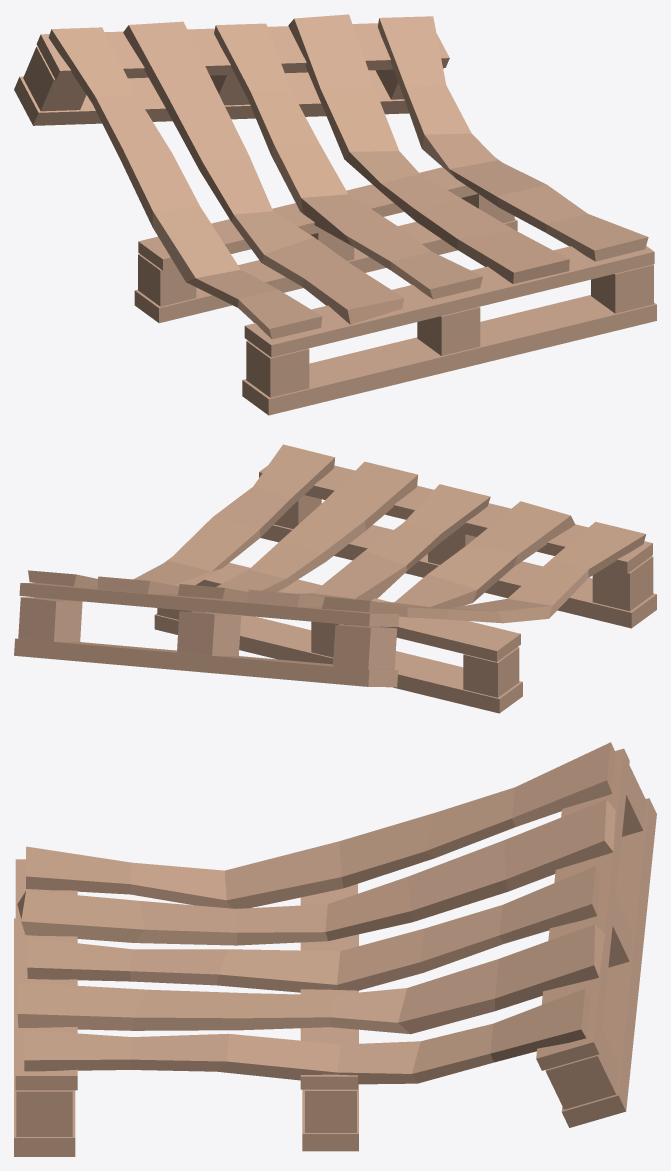
File: paletROTO.fbx
3 views of the same model, one above another, from view 1: azimuth 30°, elevation 25°; view 2: azimuth 150°, elevation 25°; view 3: azimuth 270°, elevation 25° (orthographic). The views are drawn at different scales.
Parts seen in each view (by area): view 1: PaletROTO; view 2: PaletROTO; view 3: PaletROTO.
Boxes of the visible parts, x1,y1,x2,y2 form: PaletROTO: (14, 14, 656, 415); PaletROTO: (14, 444, 656, 713); PaletROTO: (14, 742, 656, 1156).
Bounding box in the file's own units: 106 × 46.69 × 123.
